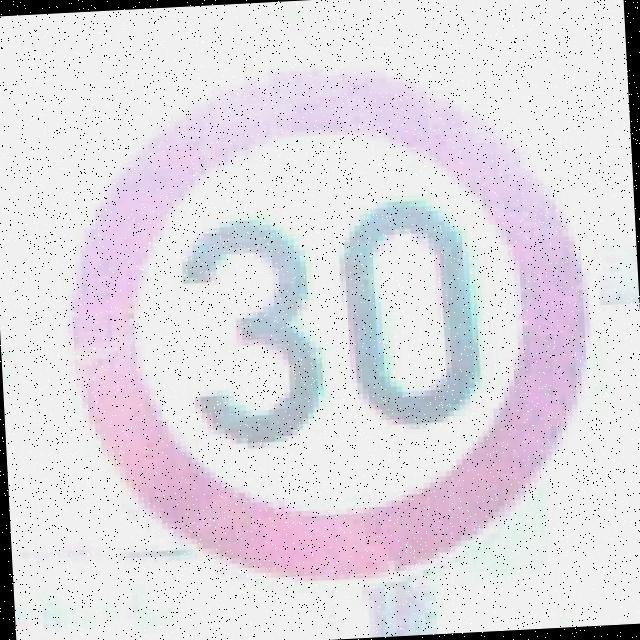Ograniczenie predkosci do 30: (61, 59, 608, 591)
